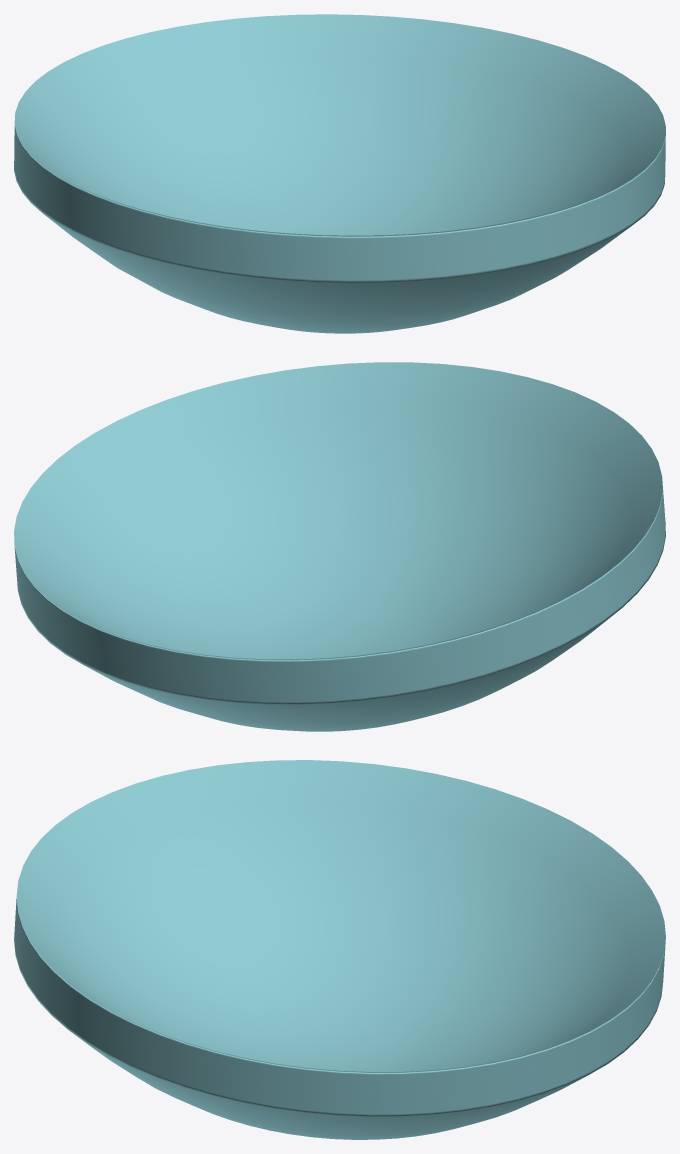
3 renders of one model, top to bottom at view 1: azimuth 30°, elevation 25°; view 2: azimuth 150°, elevation 25°; view 3: azimuth 270°, elevation 25°, orthographic.
Parts seen in each view (by area): view 1: 右侧角膜; view 2: 右侧角膜; view 3: 右侧角膜.
Part boxes in pixels (left/top/right/bottom): 右侧角膜: left=14, top=14, right=665, bottom=333; 右侧角膜: left=14, top=362, right=665, bottom=731; 右侧角膜: left=14, top=760, right=665, bottom=1139.
Size of the model in its own units: 0.0209 by 0.0073 by 0.0209.
